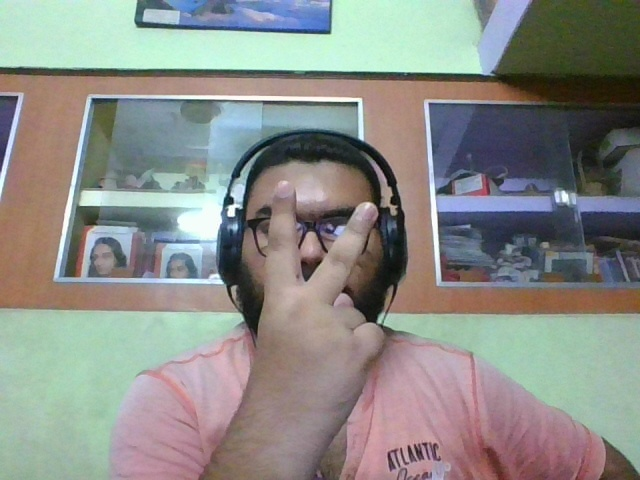iloveyou: (258, 180, 386, 418)
